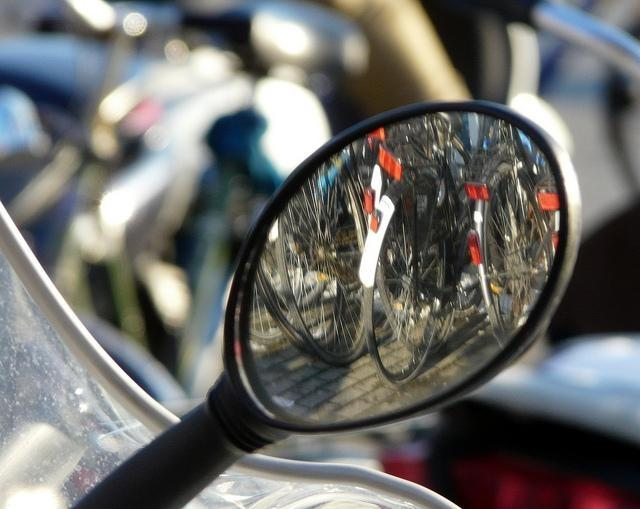bicycle: (358, 108, 492, 387), (464, 119, 563, 353), (274, 159, 364, 363), (426, 264, 479, 354)
